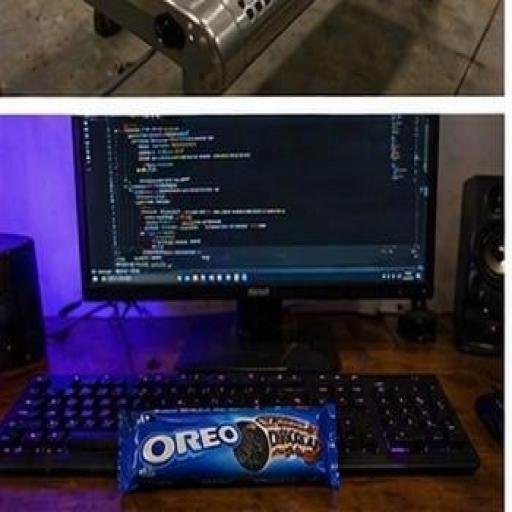oreo: (85, 350, 394, 502)
